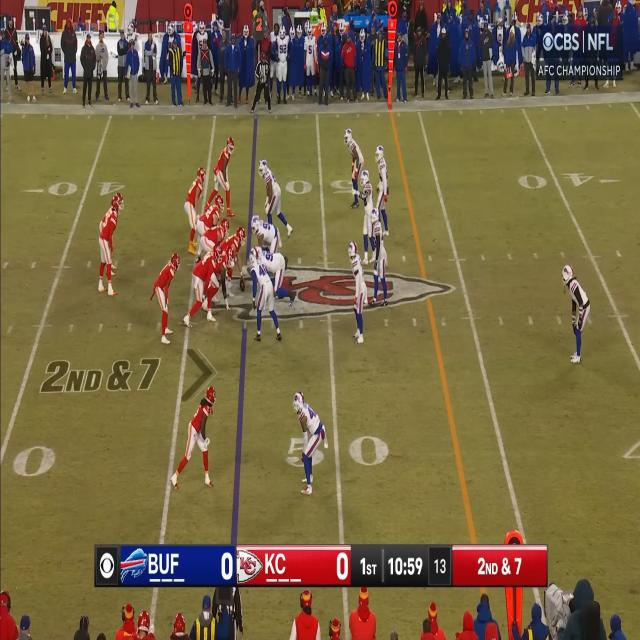Ball: (239, 279, 245, 292)
